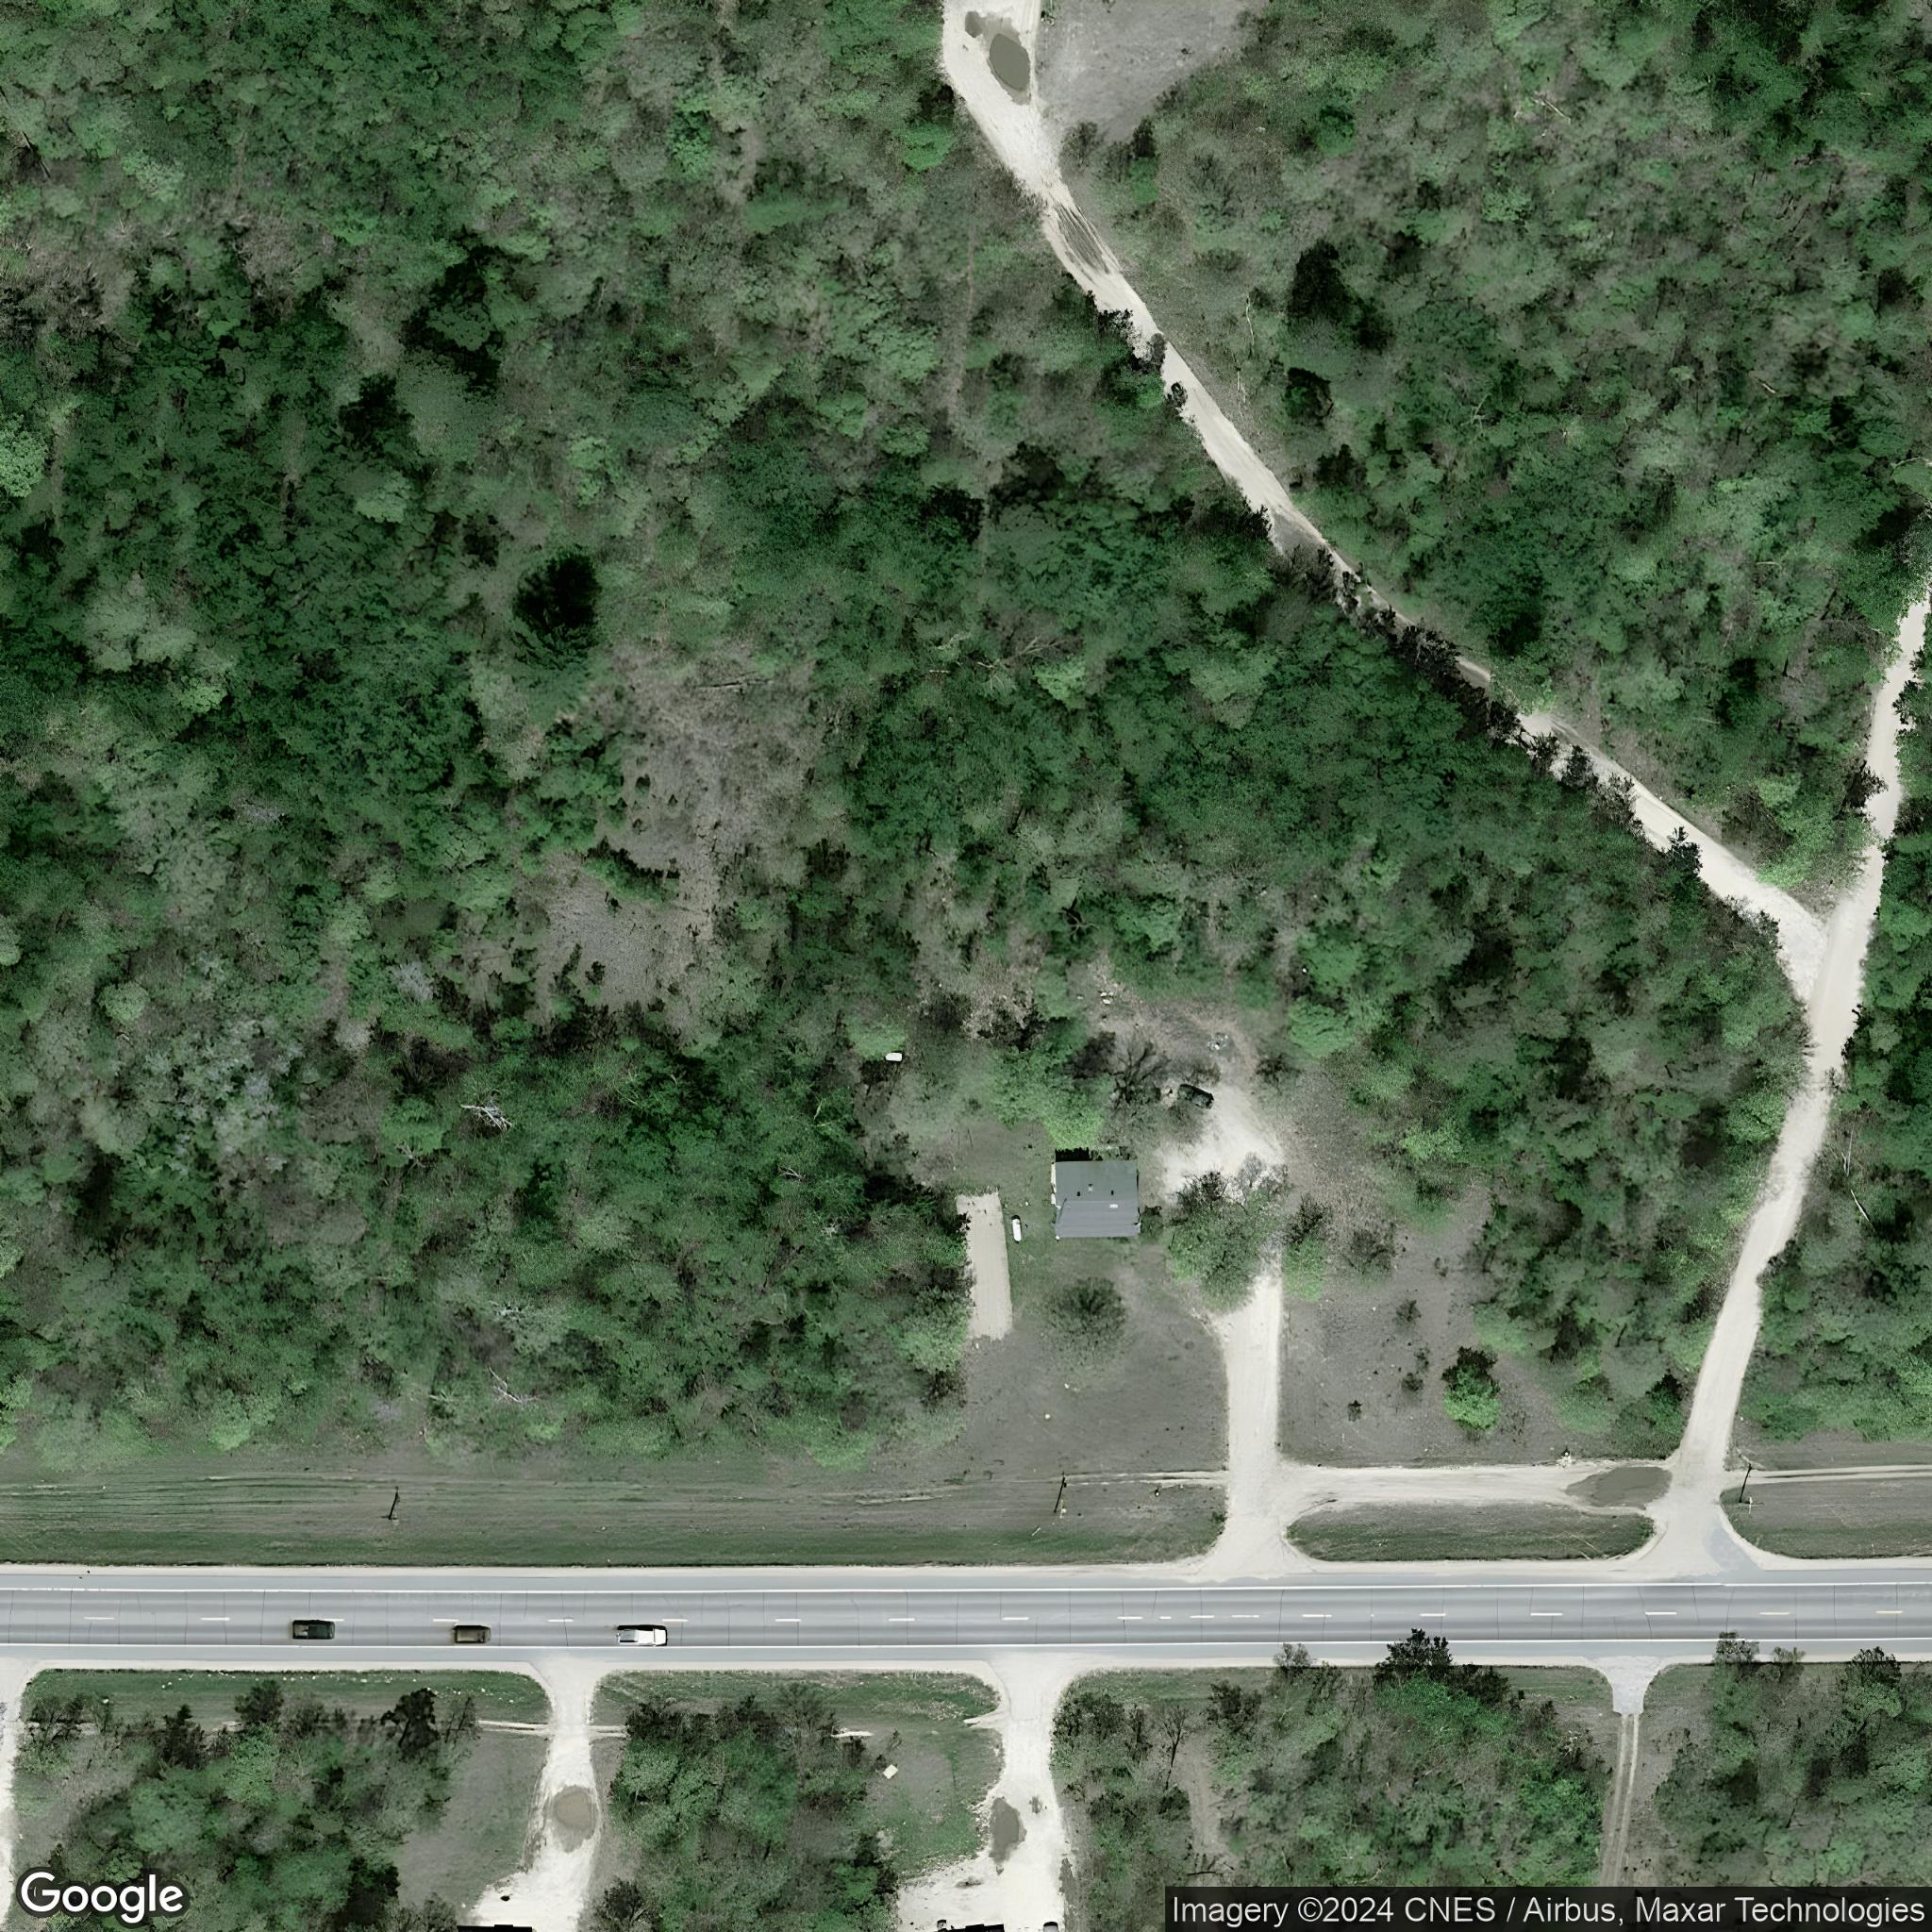House: (1049, 1157, 1141, 1242)
Propane: (1010, 1214, 1024, 1244)
